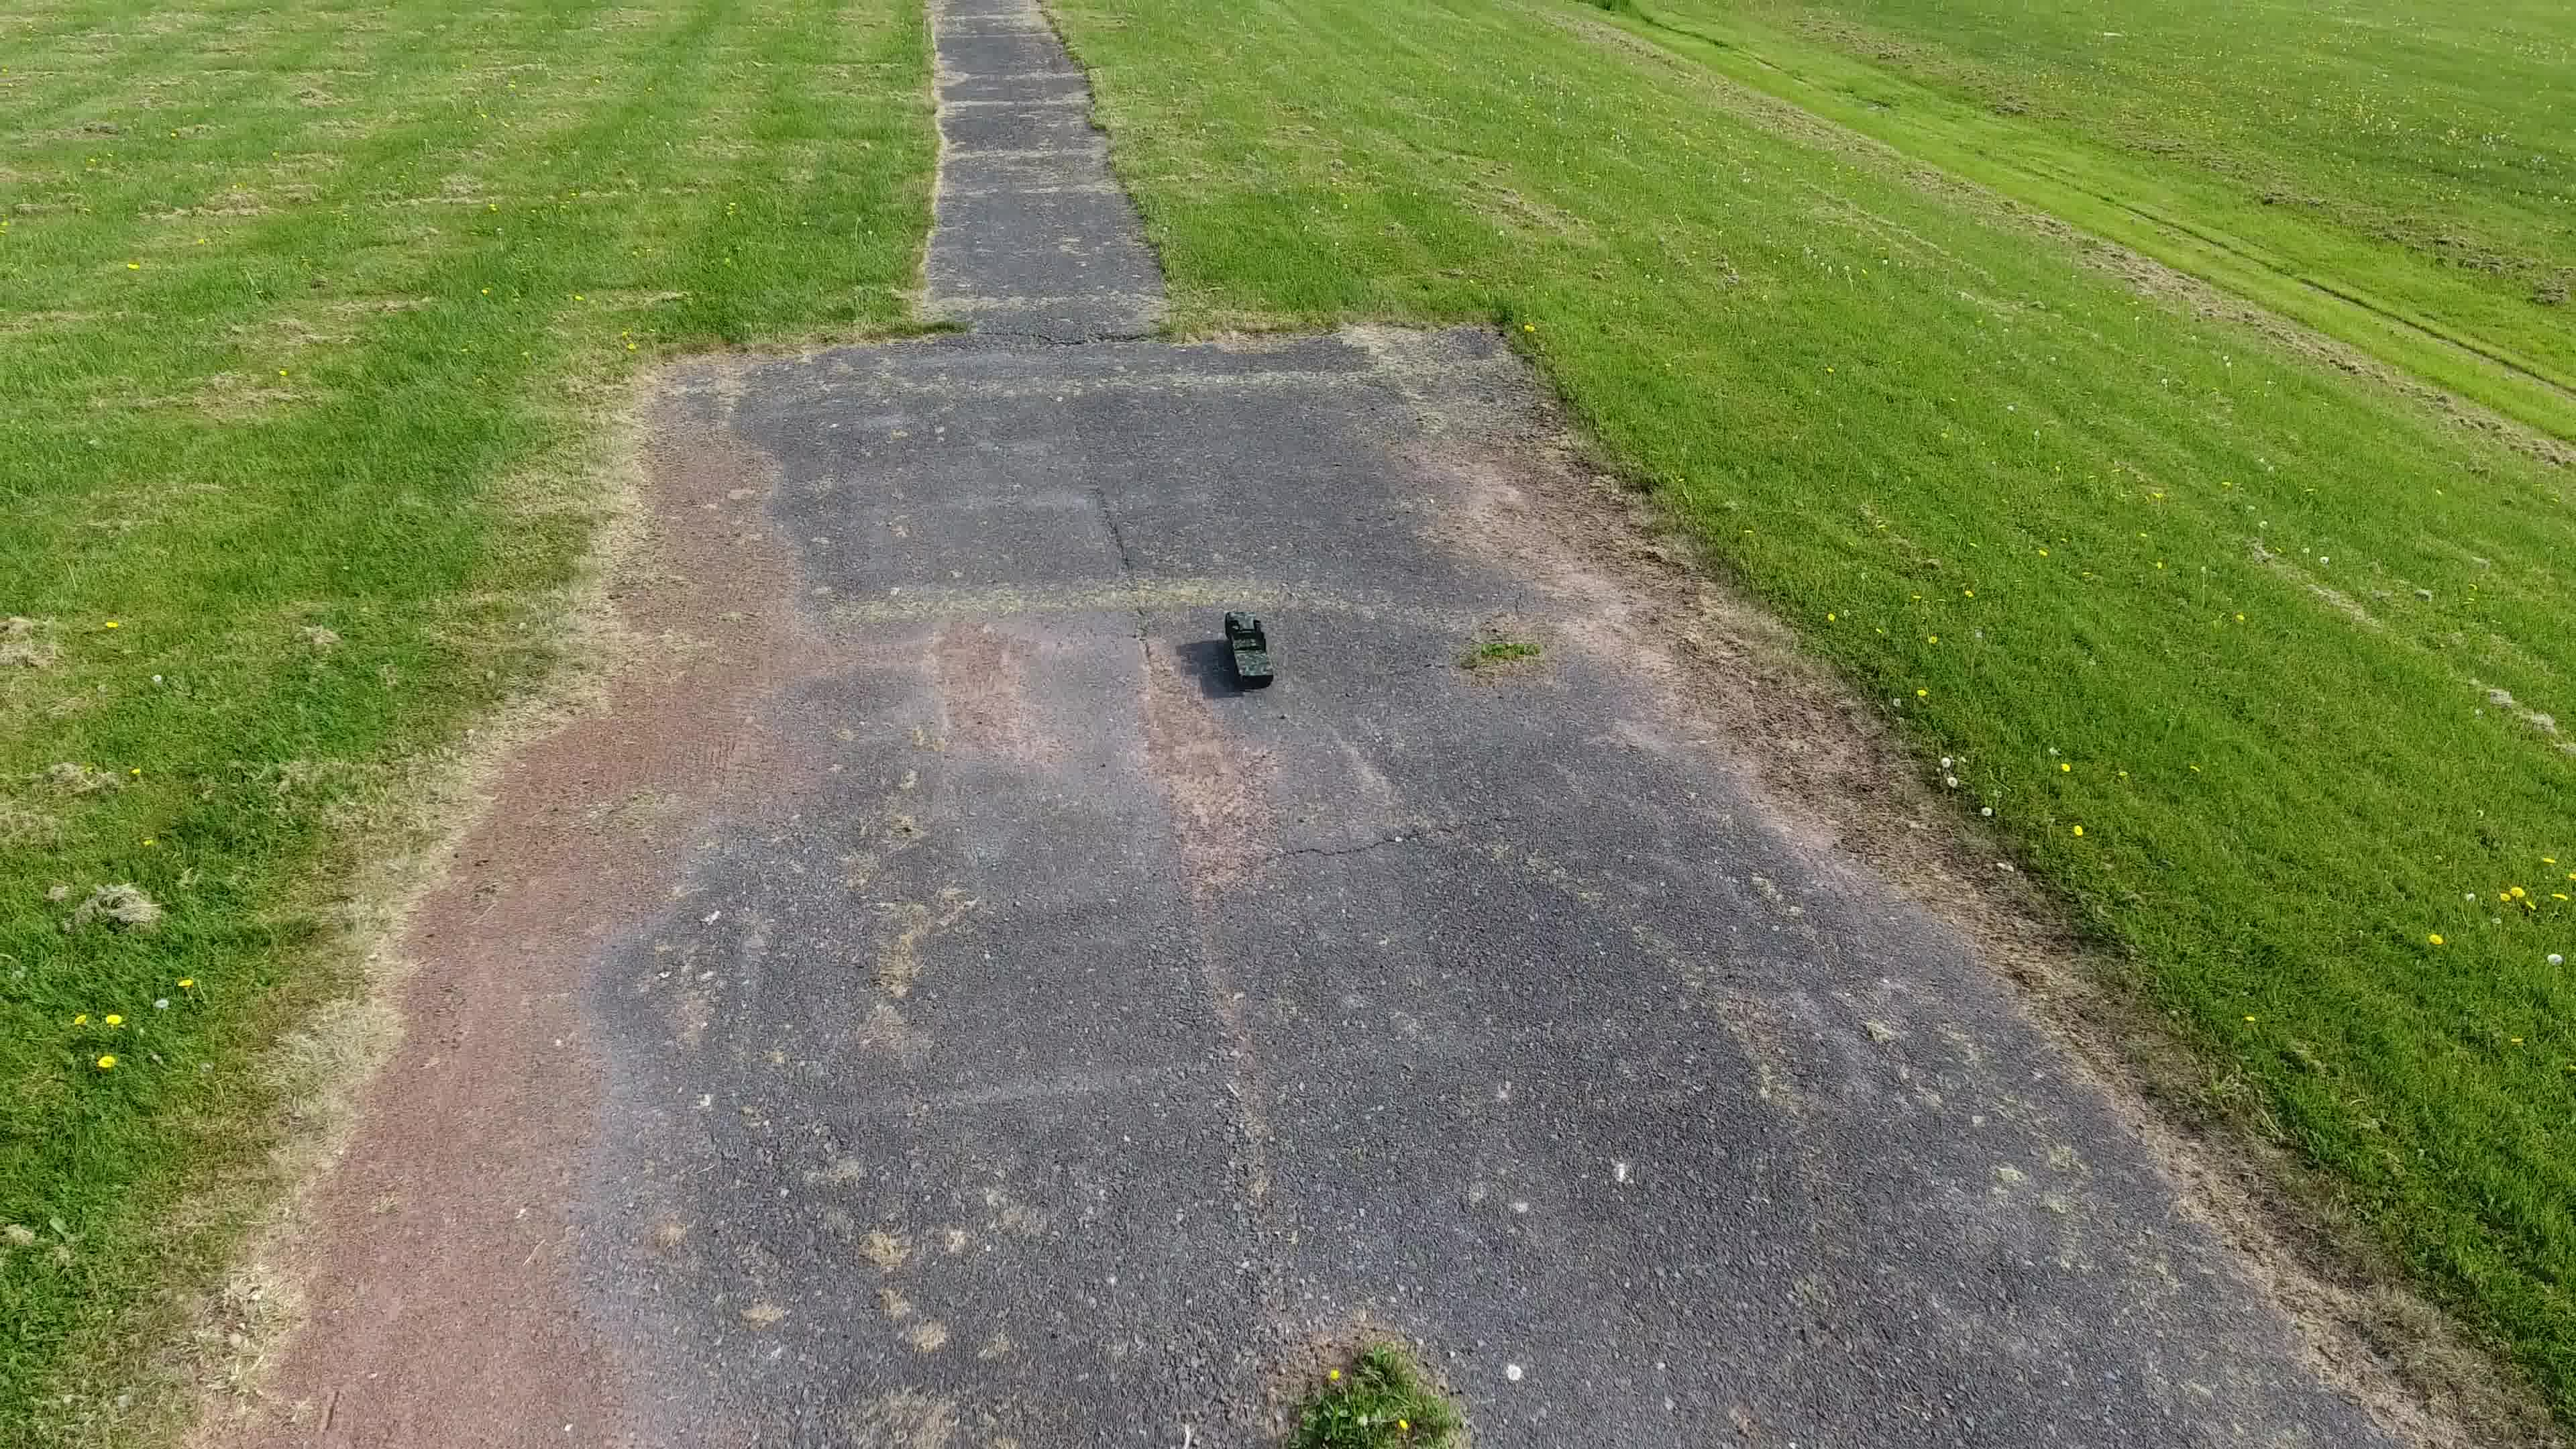transporter9_camo: (1217, 603, 1277, 692)
